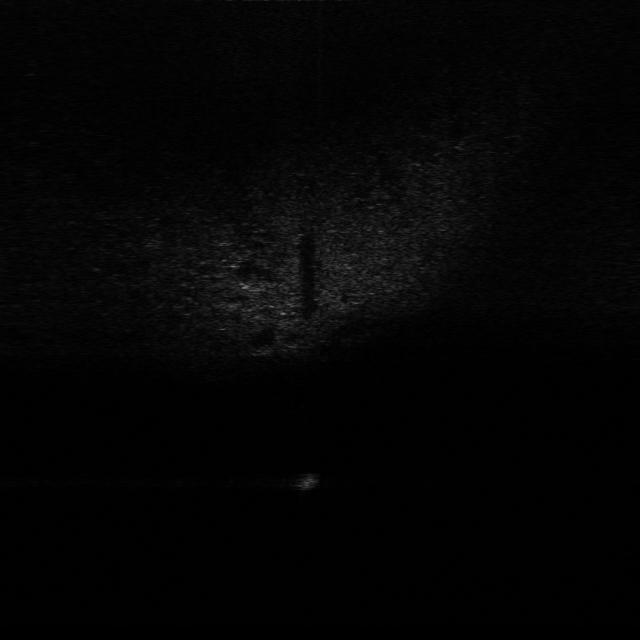cylinder: (296, 468, 322, 490)
